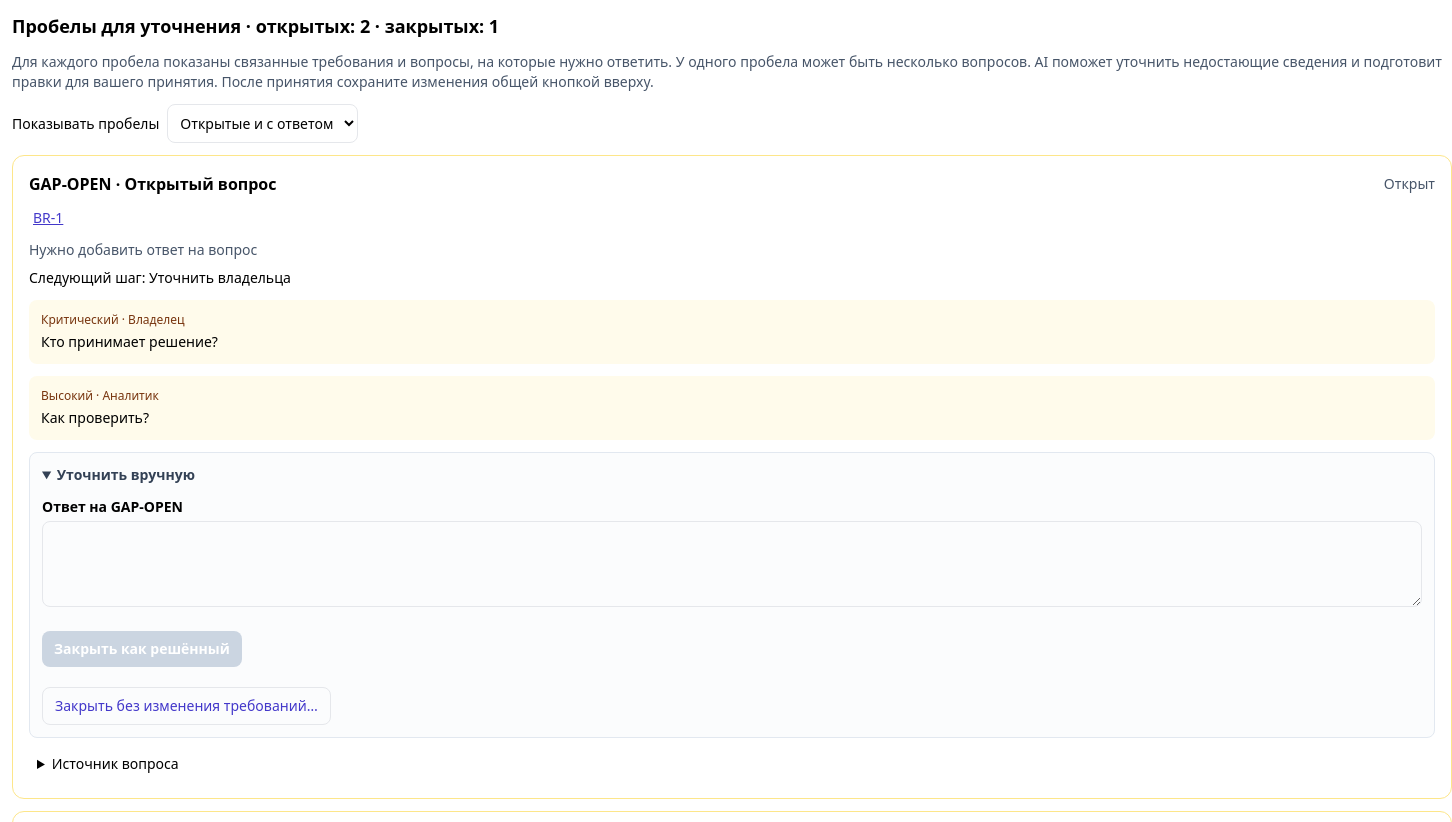
Test: filters closed and open questions and renders read-only answers
Later steps or results of the test are not shown.
Step 1. Select "Закрытые" in the dropdown named "Статус вопросов" → (263, 124), box [167,104,358,143]
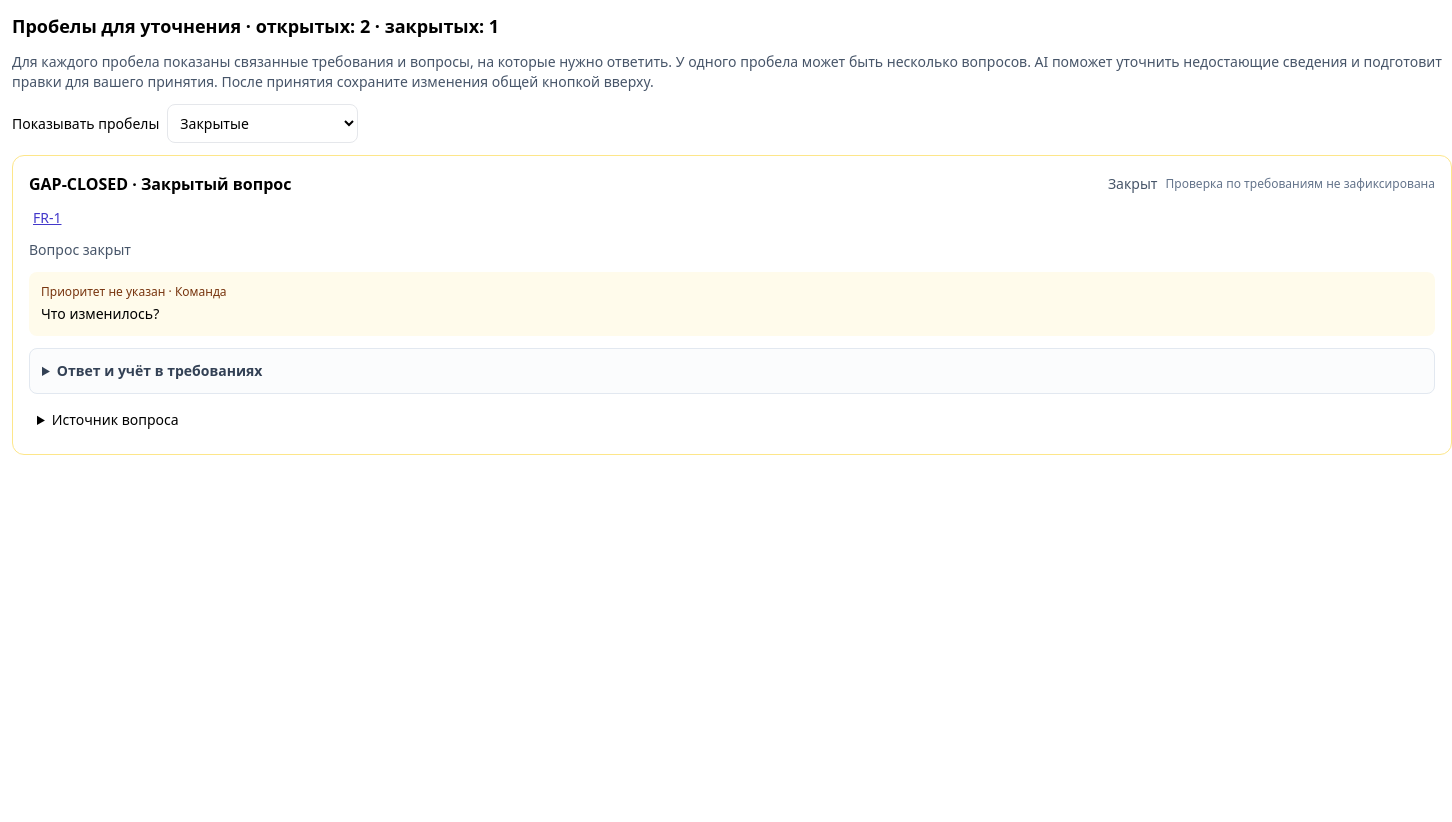
expect the heading "GAP-CLOSED · Закрытый вопрос" is shown: met, box [29,172,291,196]
expect the heading "GAP-OPEN · Открытый вопрос" is gone: met
Step 2. Select "Открытые и с ответом" in the dropdown named "Статус вопросов" → (263, 124), box [167,104,358,143]
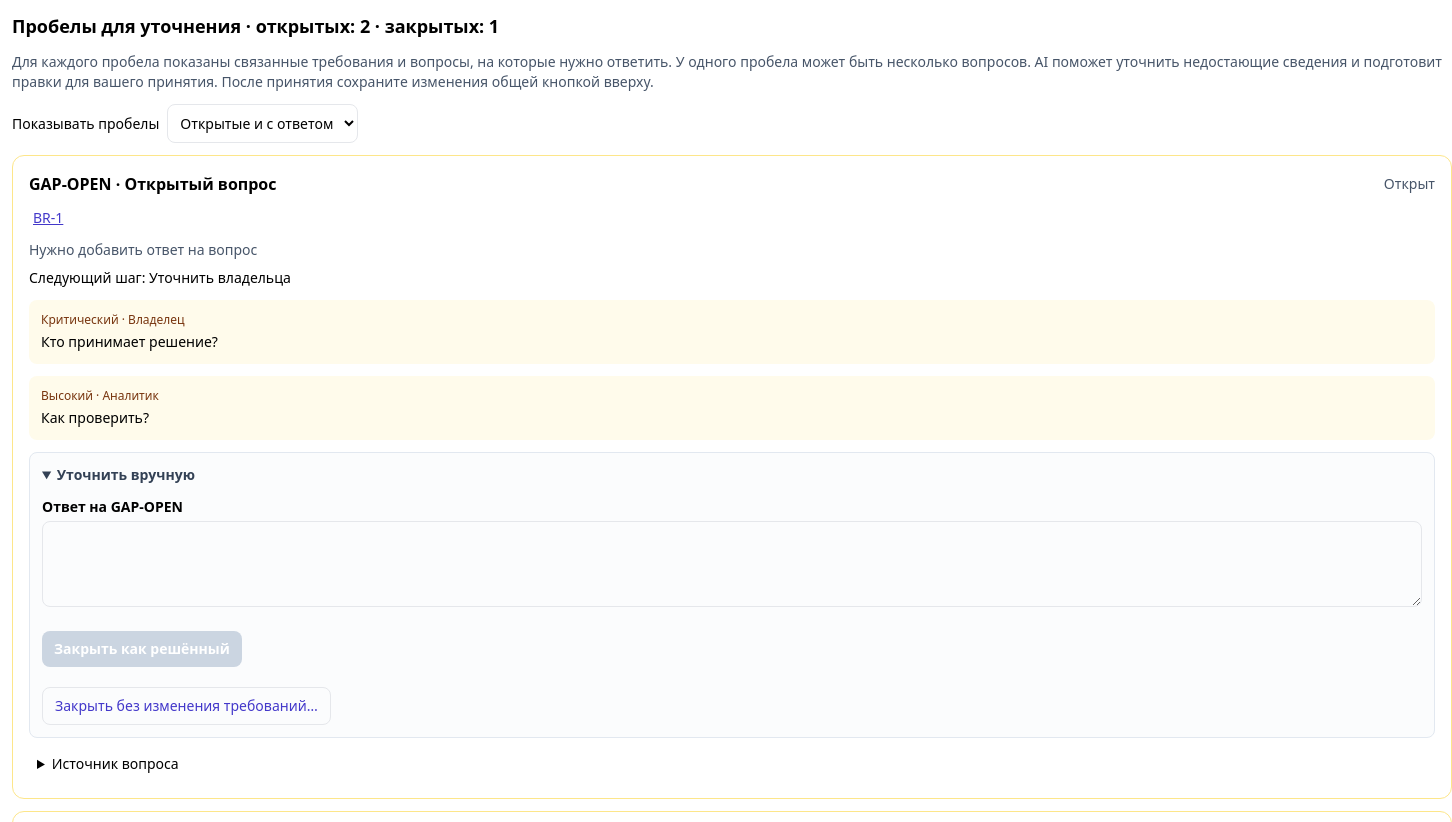
expect the heading "GAP-OPEN · Открытый вопрос" is shown: met, box [29,172,276,196]
expect the heading "GAP-CLOSED · Закрытый вопрос" is gone: met
